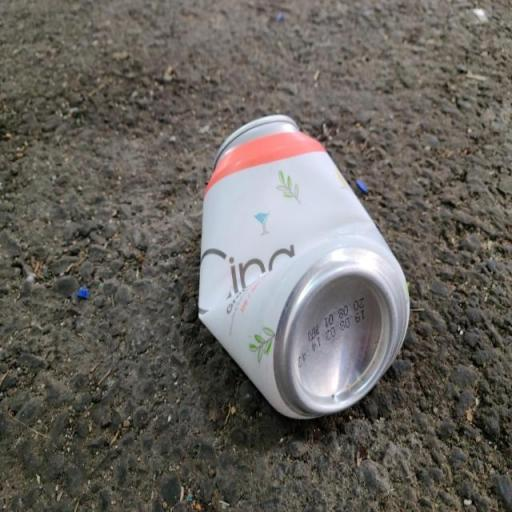metal: (176, 79, 428, 456)
